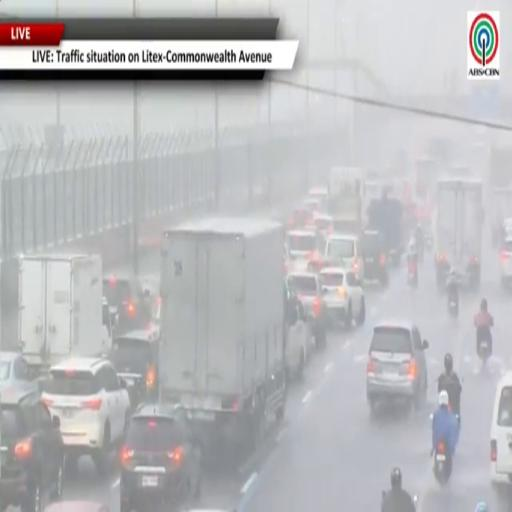car: (42, 358, 131, 473), (120, 404, 202, 511), (0, 392, 64, 511), (366, 319, 428, 413), (109, 325, 160, 407), (287, 271, 328, 348), (283, 280, 314, 379), (103, 275, 151, 334), (319, 267, 365, 328), (490, 372, 511, 500), (324, 233, 364, 281), (0, 351, 38, 395), (285, 230, 324, 271), (361, 230, 389, 285), (141, 276, 161, 324), (44, 500, 110, 511), (286, 205, 312, 230), (500, 236, 511, 287), (308, 187, 329, 211), (303, 197, 322, 223), (313, 214, 333, 235), (499, 218, 511, 245)
motorcycle: (433, 442, 452, 485), (477, 326, 492, 366), (478, 340, 491, 365), (448, 291, 458, 318), (408, 262, 417, 287), (424, 232, 433, 250), (413, 494, 418, 508)
truck: (159, 217, 286, 455), (2, 254, 112, 371), (436, 178, 483, 290), (366, 187, 404, 266), (328, 167, 364, 235), (487, 185, 511, 246), (489, 146, 511, 187)
